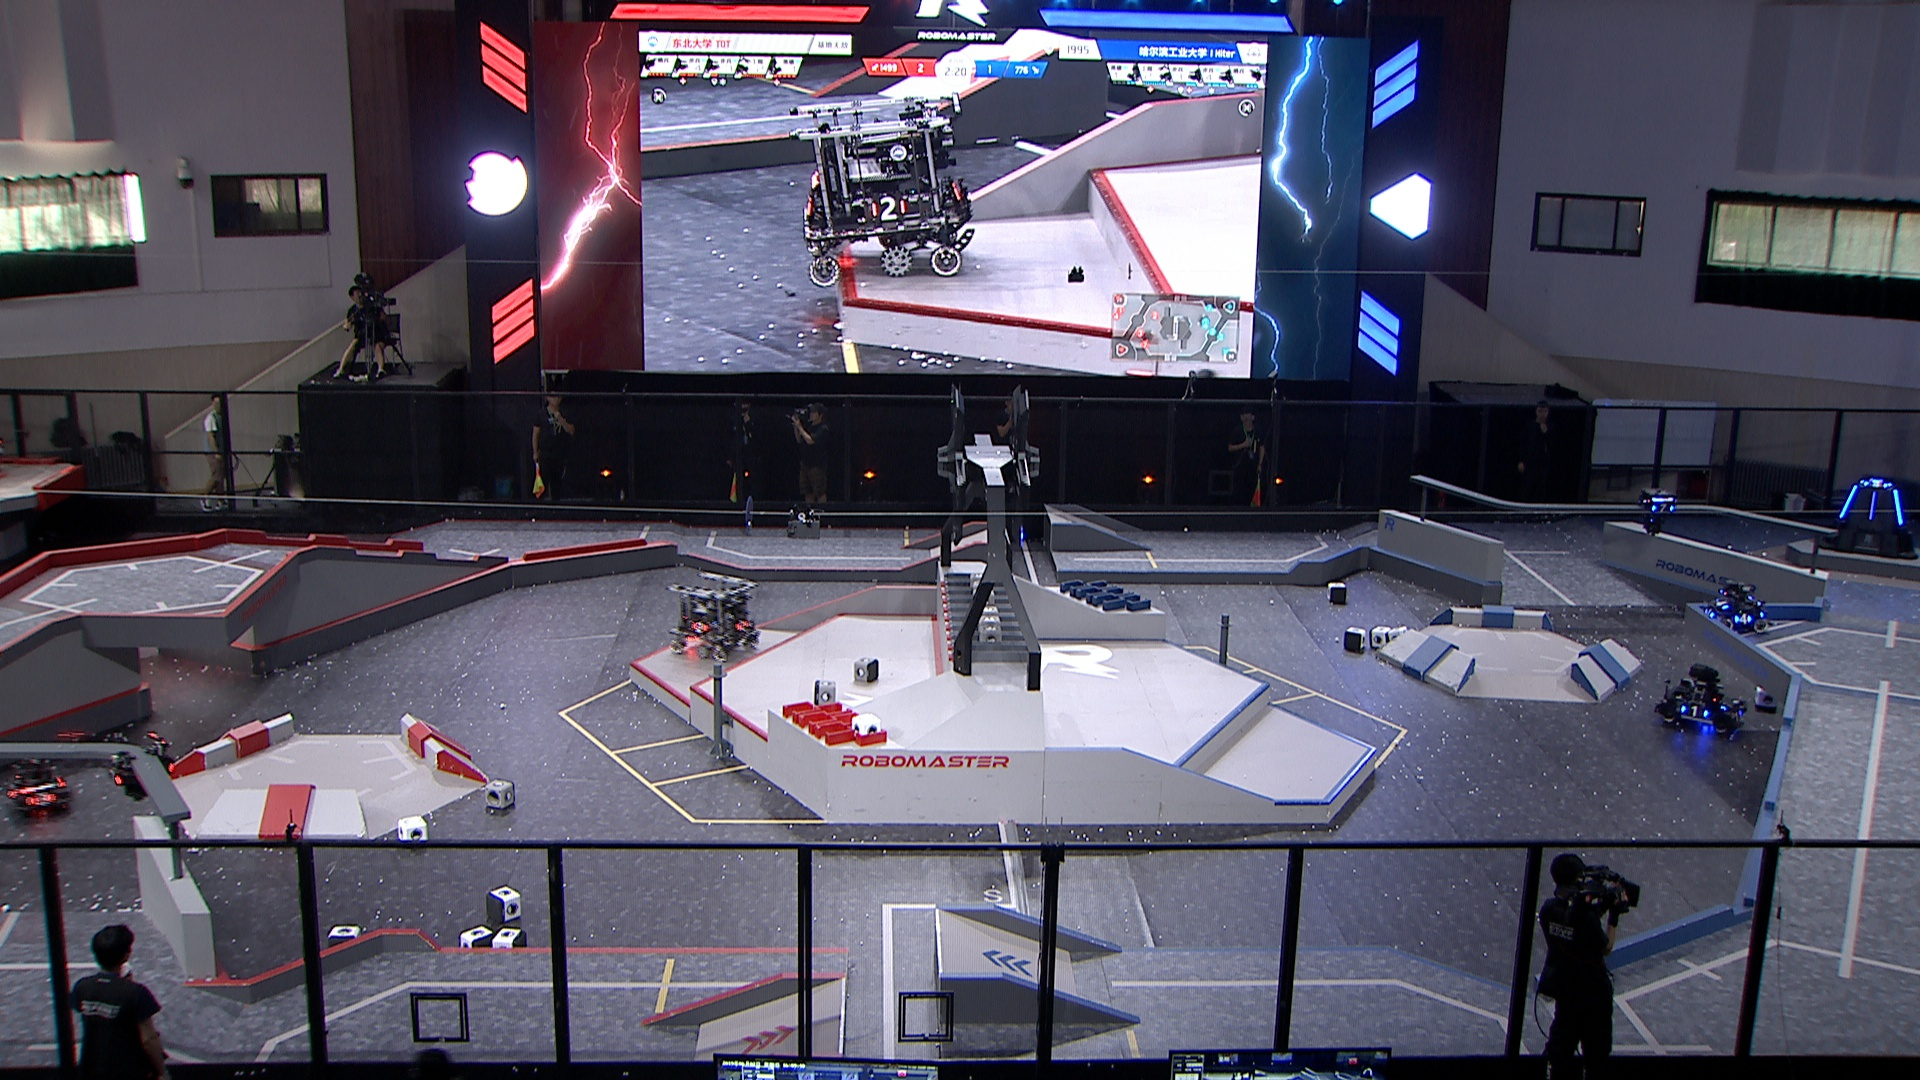armor: (1840, 483, 1858, 520), (1679, 702, 1712, 721), (1892, 488, 1907, 526), (24, 793, 55, 808), (103, 769, 125, 789), (1651, 501, 1675, 516), (1861, 479, 1890, 489), (1731, 612, 1753, 626), (1869, 491, 1878, 524), (688, 618, 708, 633), (1713, 597, 1730, 612), (735, 618, 752, 632), (1731, 711, 1745, 727), (1702, 605, 1716, 618)
base: (1816, 472, 1916, 556)
car: (666, 570, 760, 665), (1655, 665, 1750, 742), (3, 752, 69, 822), (1697, 578, 1768, 637)
ignore: (783, 96, 973, 286)
watcher: (102, 732, 173, 802), (1636, 488, 1676, 535)
